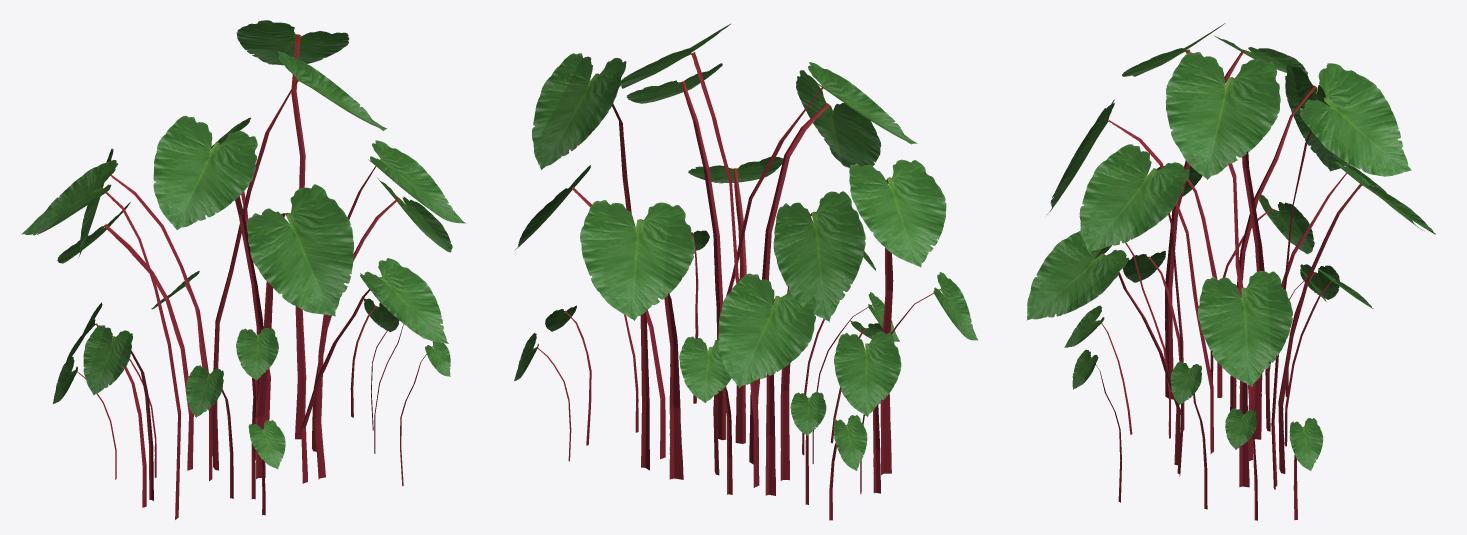
Rendered from Colocasia4.fbx.
3 renders of one model, left to right at view 1: azimuth 30°, elevation 25°; view 2: azimuth 150°, elevation 25°; view 3: azimuth 270°, elevation 25°, orthographic. The views are drawn at different scales.
Visible parts, largest first — view 1: Colocasia.024; view 2: Colocasia.024; view 3: Colocasia.024.
Part boxes in pixels (x1,y1,x2,y2): Colocasia.024: (21, 20, 466, 519); Colocasia.024: (514, 24, 978, 520); Colocasia.024: (1027, 23, 1435, 520).
Size of the model in its own units: 303 by 277 by 259.
